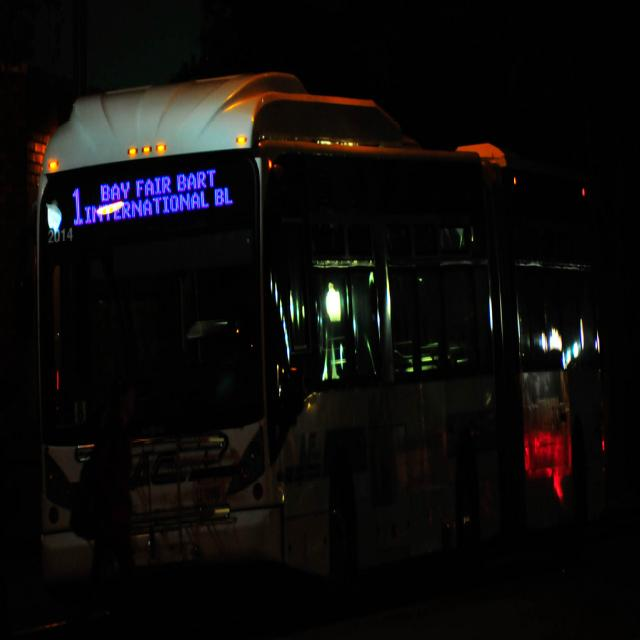Bus: (22, 65, 632, 609)
